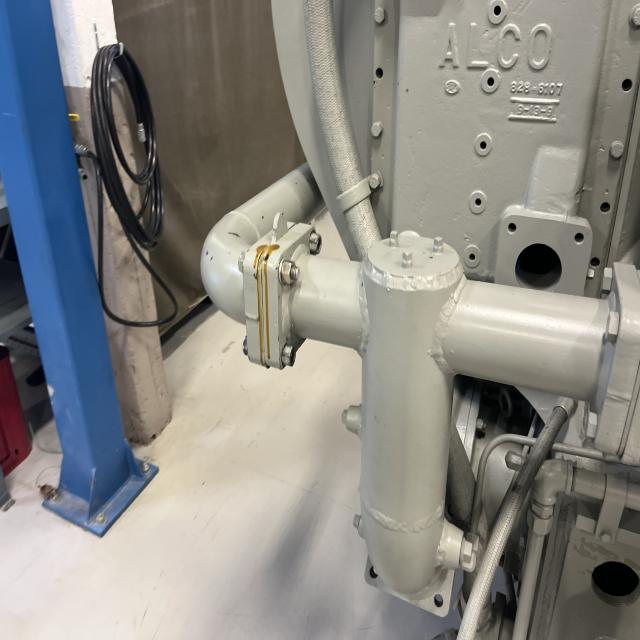Oil Leak: (253, 244, 280, 367)
